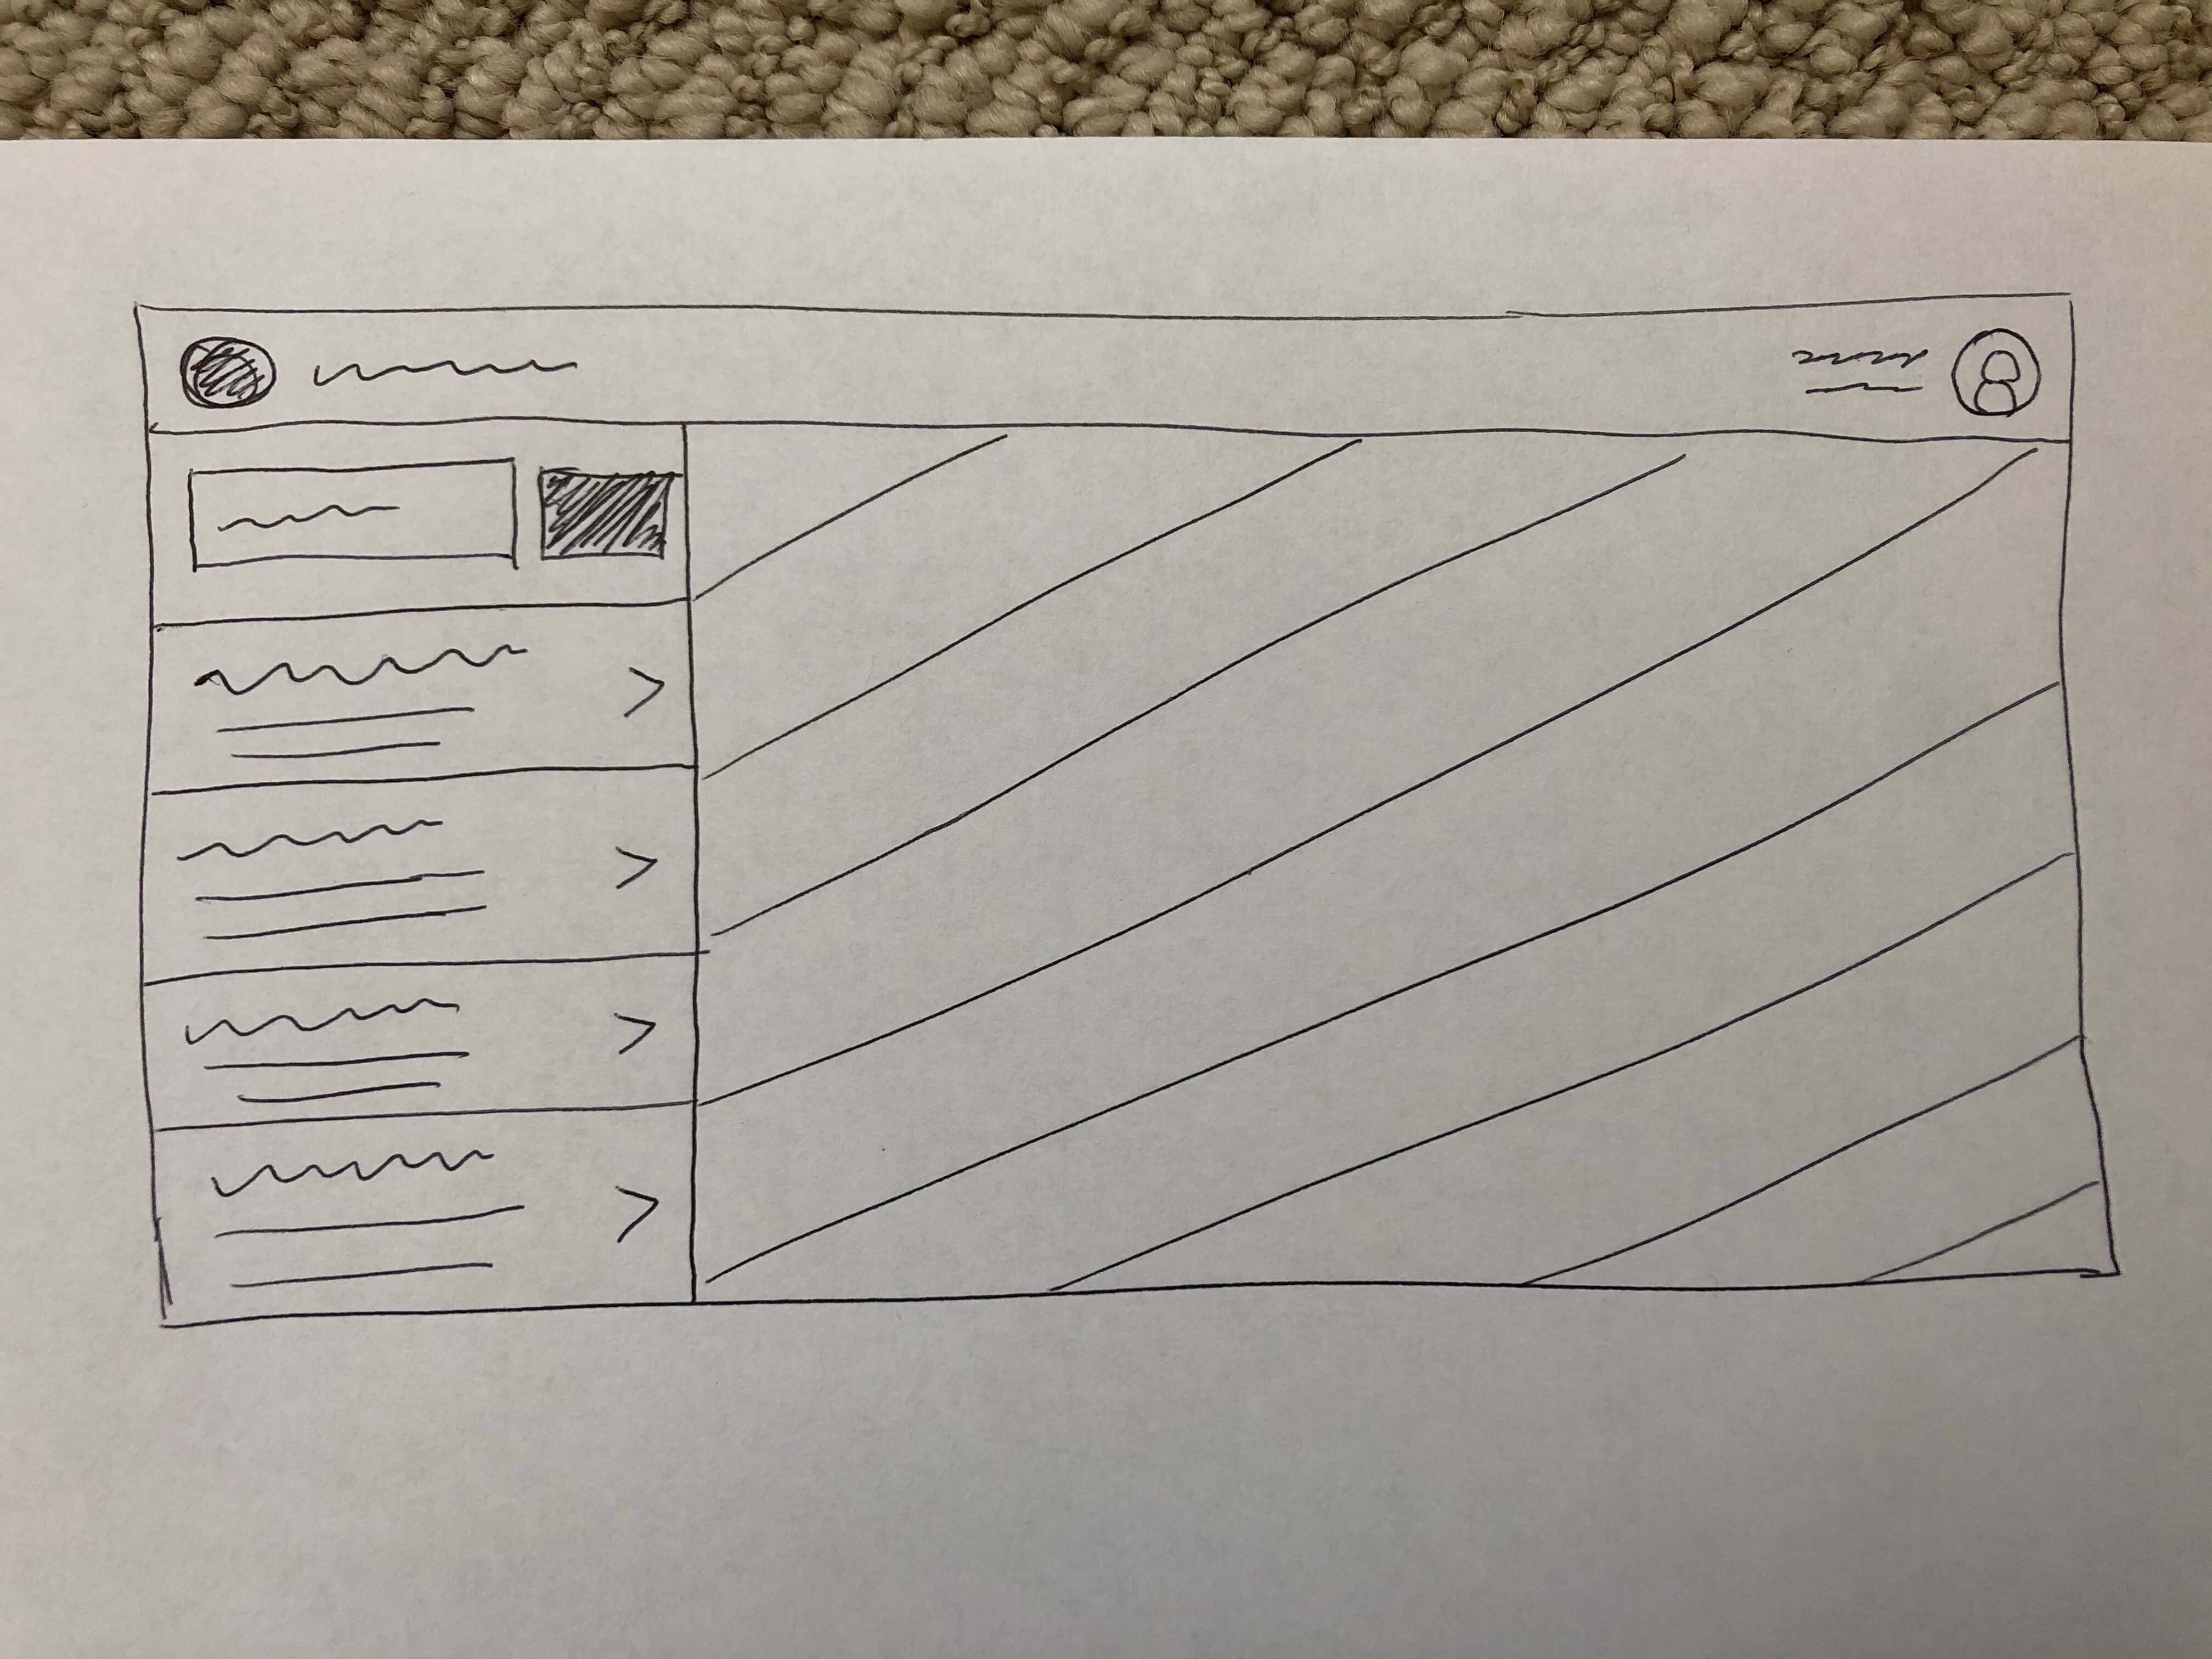avatar: (1780, 324, 2050, 429)
button: (531, 451, 679, 572)
input: (183, 457, 524, 572)
map: (678, 411, 2127, 1300)
